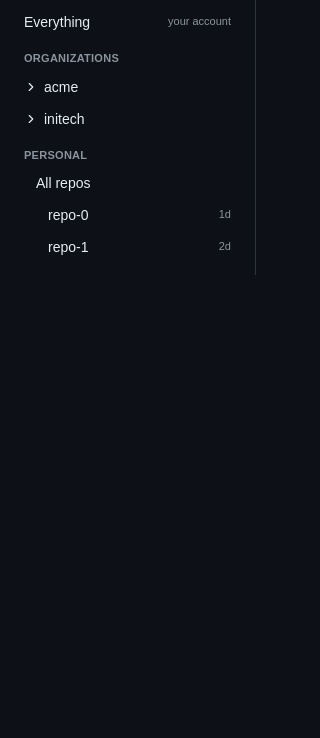
Test: StatsSidebar: truncation is never silent › caps the rendered rows but states the count and can expand
Click the button "acme" at (128, 86), box x1=12 y1=70 x2=243 y2=102
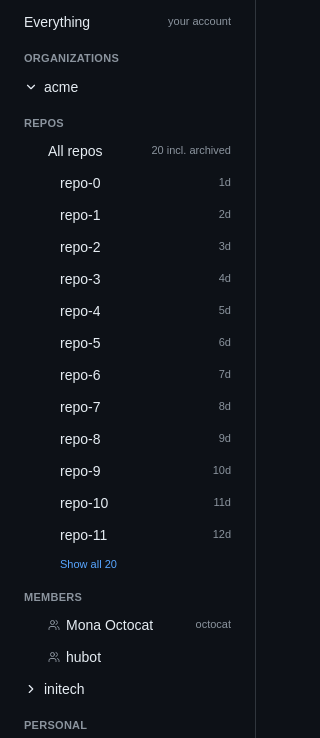
expect the button titled "acme/repo-0" is shown: met, box x1=12 y1=167 x2=243 y2=199
expect the button "Show all 20" is shown: met
Click the button "Show all 20" at (128, 564), box x1=12 y1=552 x2=243 y2=576
(page scrolled)
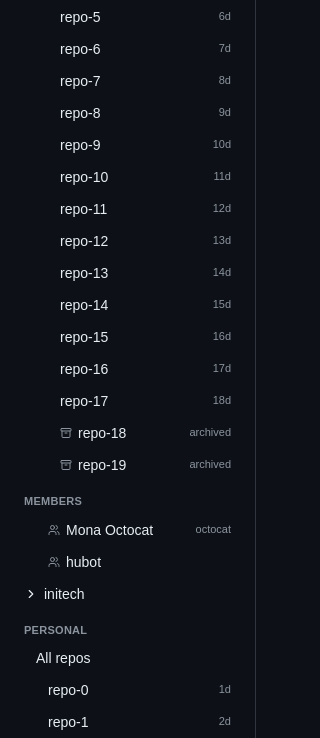
expect the button titled "acme/repo-19" is shown: met, box x1=12 y1=449 x2=243 y2=481
expect the button "Show all" is gone: met
